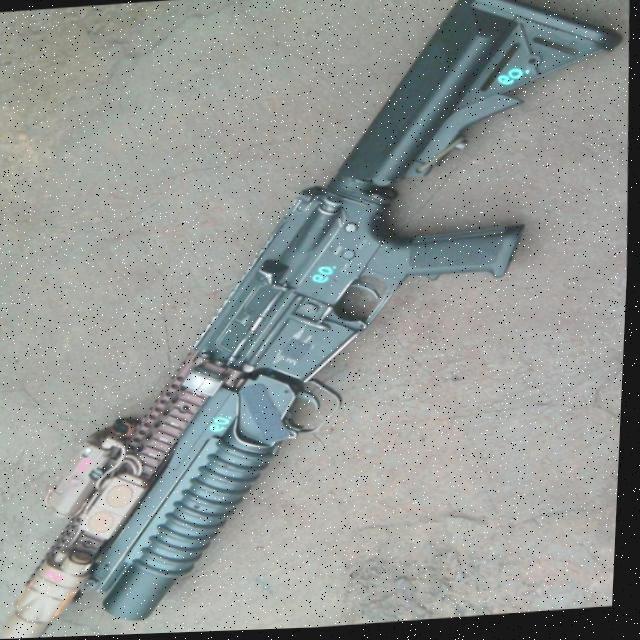firearm: (0, 0, 640, 640)
rocket: (80, 368, 357, 625)
